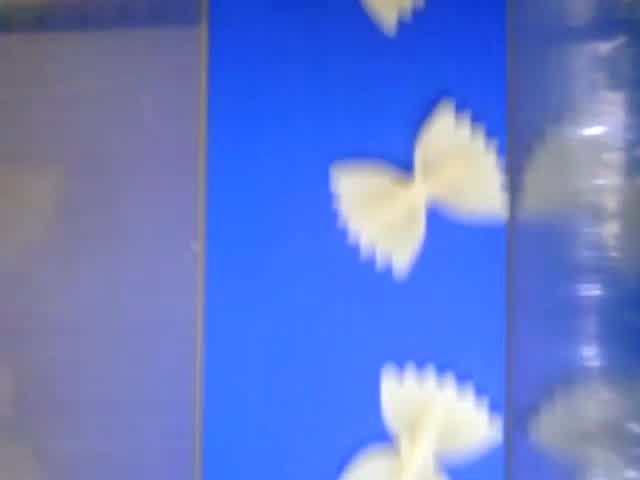farfalle: (329, 98, 513, 280), (335, 362, 503, 480), (360, 1, 431, 40)
